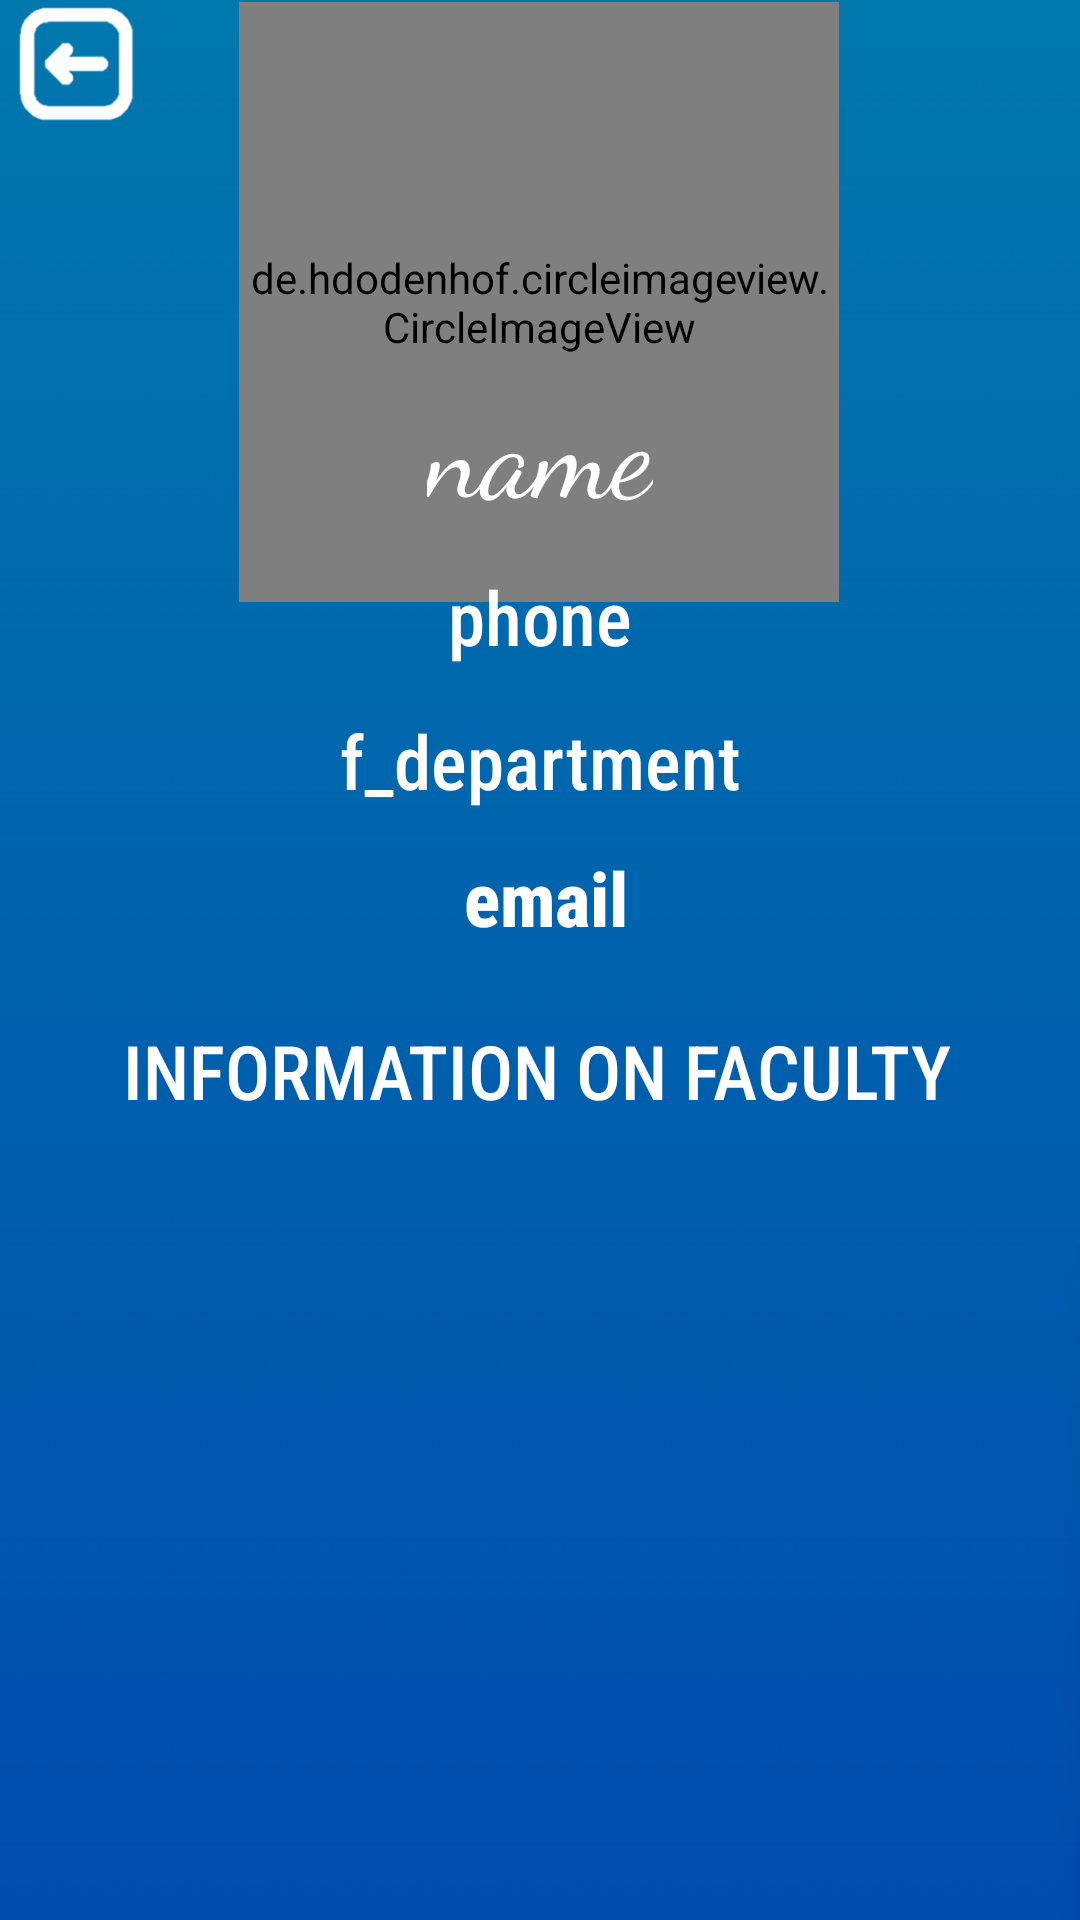

Icon click points for this 1080 × 1920 phone screenshot, format [x,y]:
back: [76,64]
